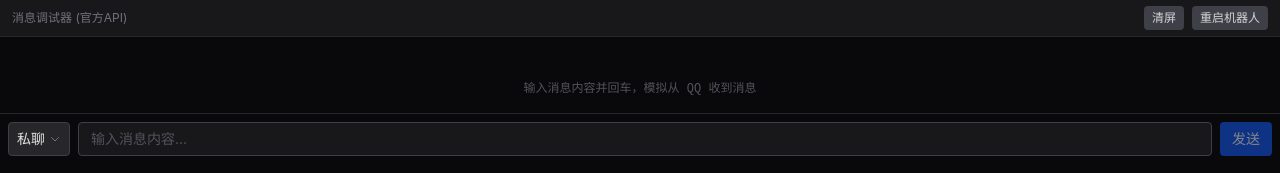
Test: ConsolePanel - 官方 API 消息调试器 › 注入失败（ok=false）时显示后端原因
Type "x" into the field named "测试消息输入框" at (645, 139), box top-left (78, 122), bottom-right (1212, 156)
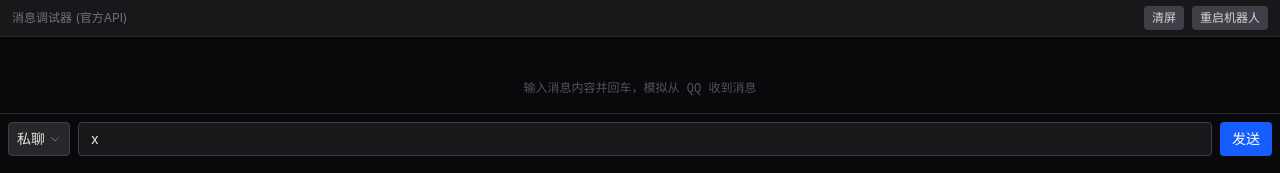
Click the button "发送" at (1246, 139), box top-left (1220, 122), bottom-right (1272, 156)
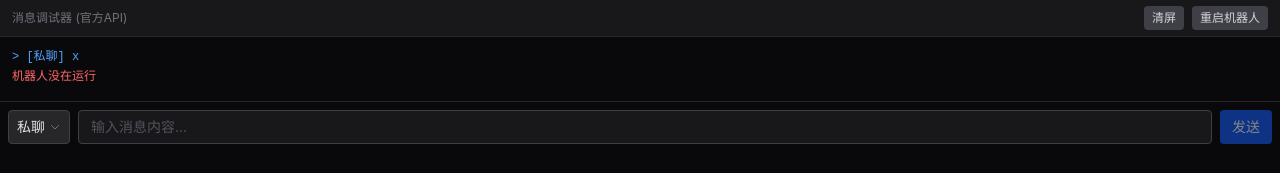
expect the text "机器人没在运行" is shown: met, box top-left (12, 70), bottom-right (96, 84)
